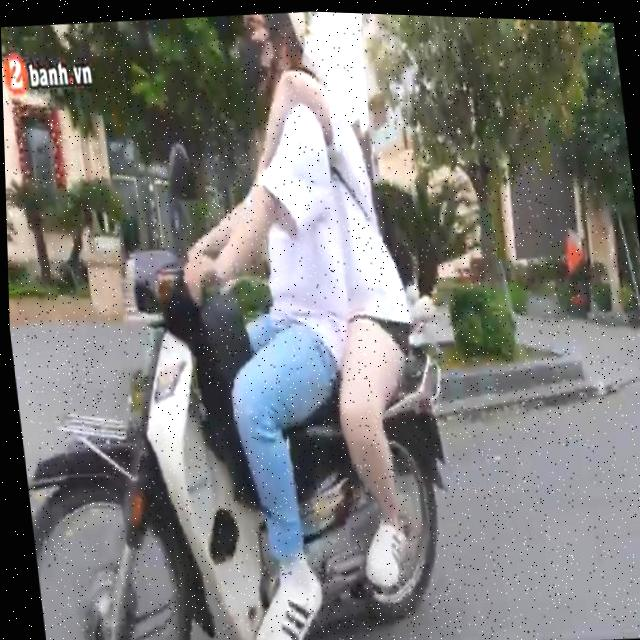motorcycle: (6, 212, 475, 640)
